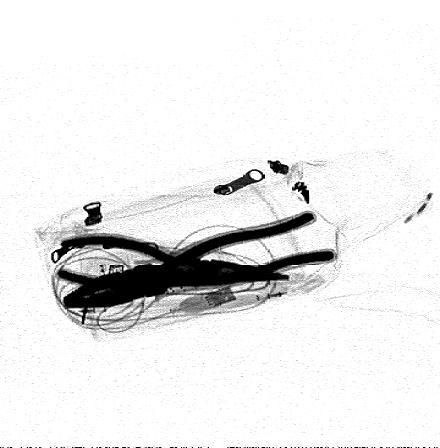Pliers: (56, 208, 341, 314), (52, 232, 297, 295)
